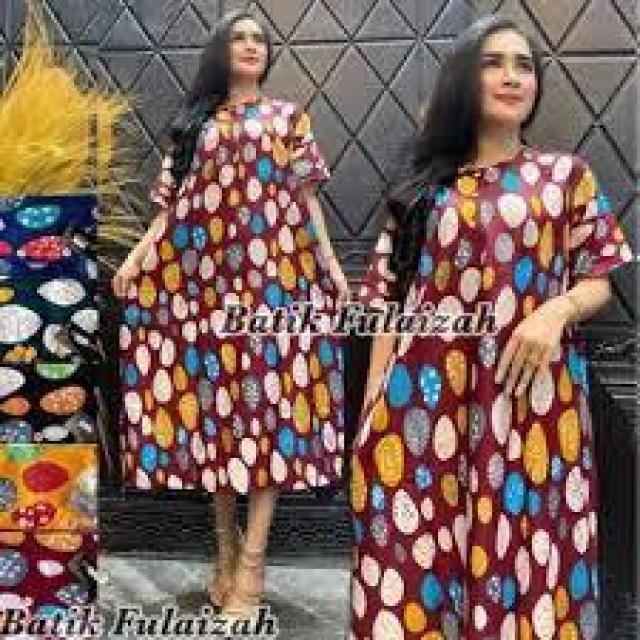dress: (346, 148, 627, 640), (118, 92, 354, 494)
